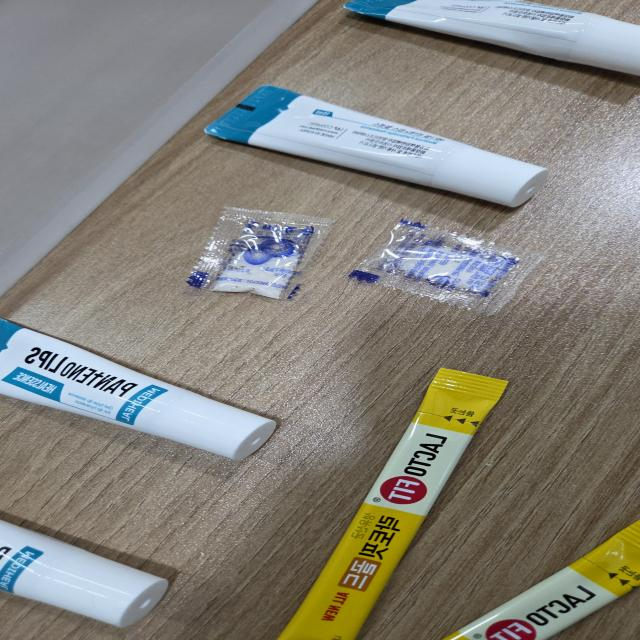lacto: (280, 363, 513, 640), (437, 511, 640, 640)
lib: (199, 83, 550, 209), (0, 318, 281, 460), (336, 1, 640, 78), (0, 518, 176, 634)
salt: (342, 216, 544, 318), (185, 205, 335, 304)
